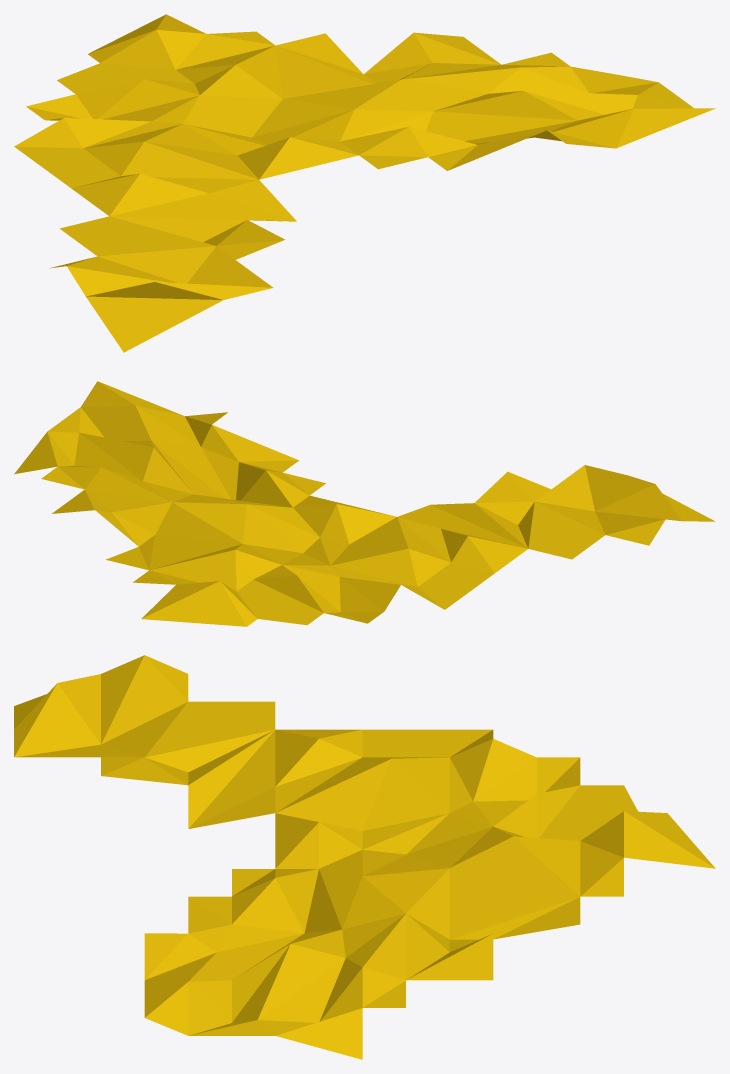
Rendered from lavaLake.fbx.
3 views of the same model, one above another, from view 1: azimuth 30°, elevation 25°; view 2: azimuth 150°, elevation 25°; view 3: azimuth 270°, elevation 25° (orthographic). The views are drawn at different scales.
Visible parts, largest first — view 1: pPlane1; view 2: pPlane1; view 3: pPlane1.
Boxes of the visible parts, box(x1,y1,x2,y2) form: pPlane1: box(14, 14, 715, 352); pPlane1: box(14, 381, 715, 626); pPlane1: box(14, 655, 715, 1059).
Size of the model in its own units: 0.6553 by 0.0525 by 0.537.
